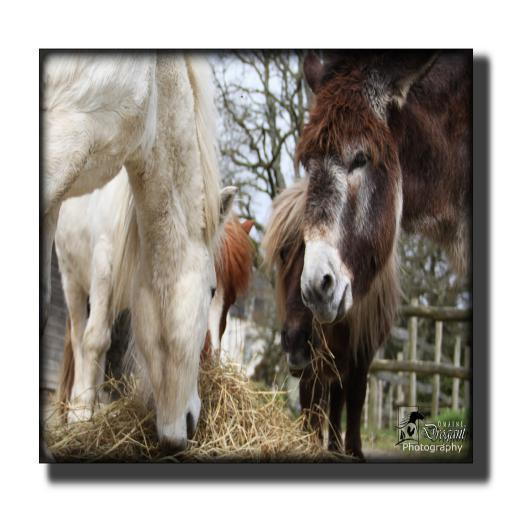horse: (38, 47, 238, 454), (298, 48, 472, 327), (54, 162, 236, 424), (258, 172, 407, 454)
